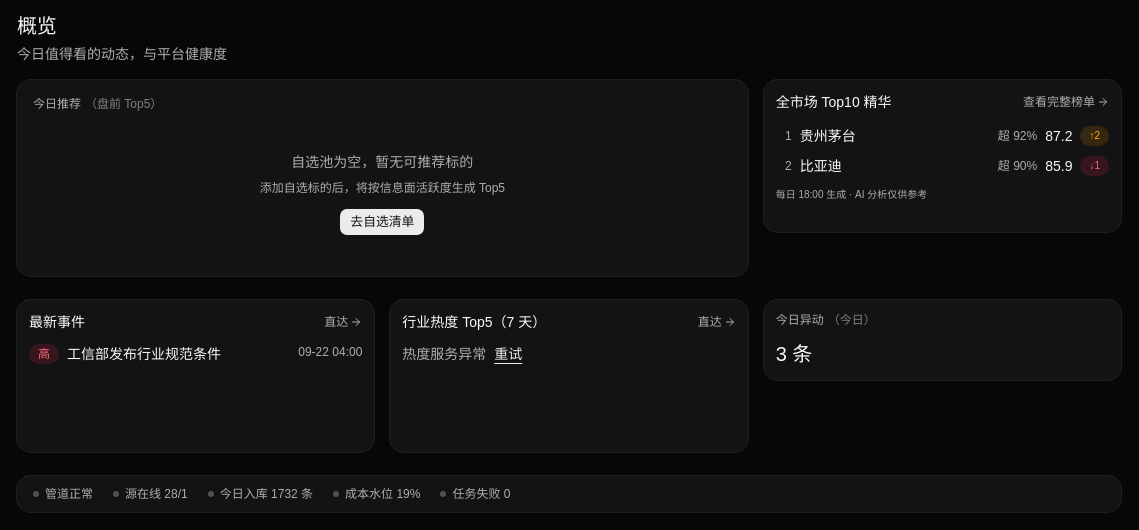
Test: Overview 概览重组 11→6（T223，V3.0） › 单块降级继承：热度块失败显示错误 + 重试且恢复，其余块与今日异动不受拖累
Check: the text with test id "overview-heat-error" reads "热度服务异常", box [402,346,486,362]
Check: the button with test id "overview-event-71" is shown, box [29,344,362,364]
What coordinates should you click on to do the following:
click the button with test id "overview-heat-retry"
I would click on:
 (508, 354)
Its box is [494,344,522,364].
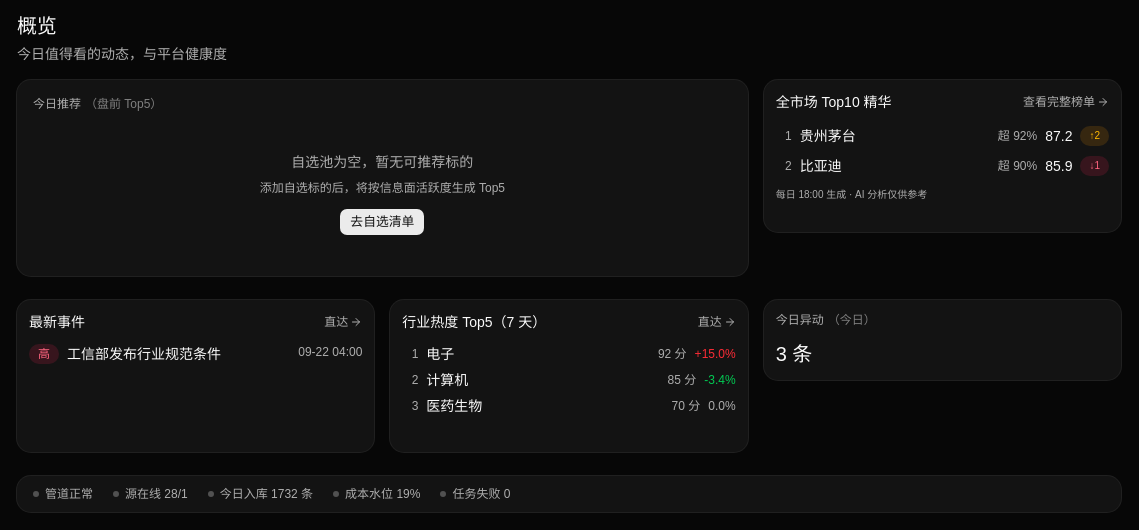
Check: the element with test id "overview-heat" shows "电子", box [402,344,736,364]
